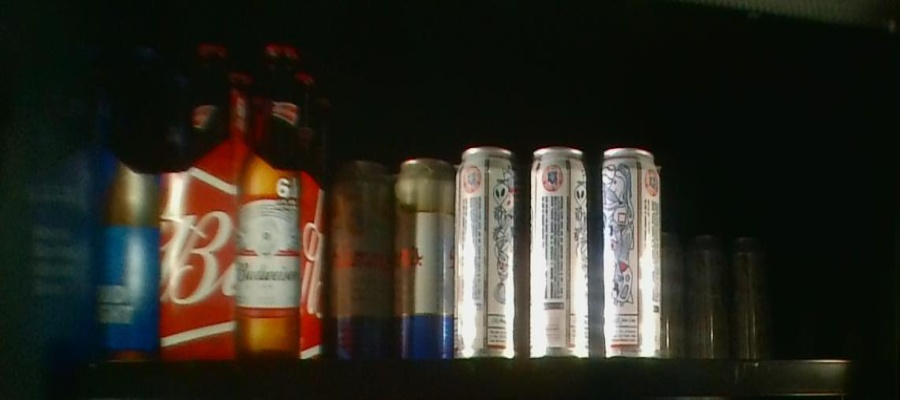bottle: (162, 41, 327, 363), (1, 47, 159, 365), (454, 144, 658, 356), (330, 156, 450, 361), (659, 230, 775, 365)
